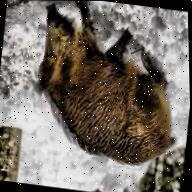boar: (10, 0, 192, 190)
